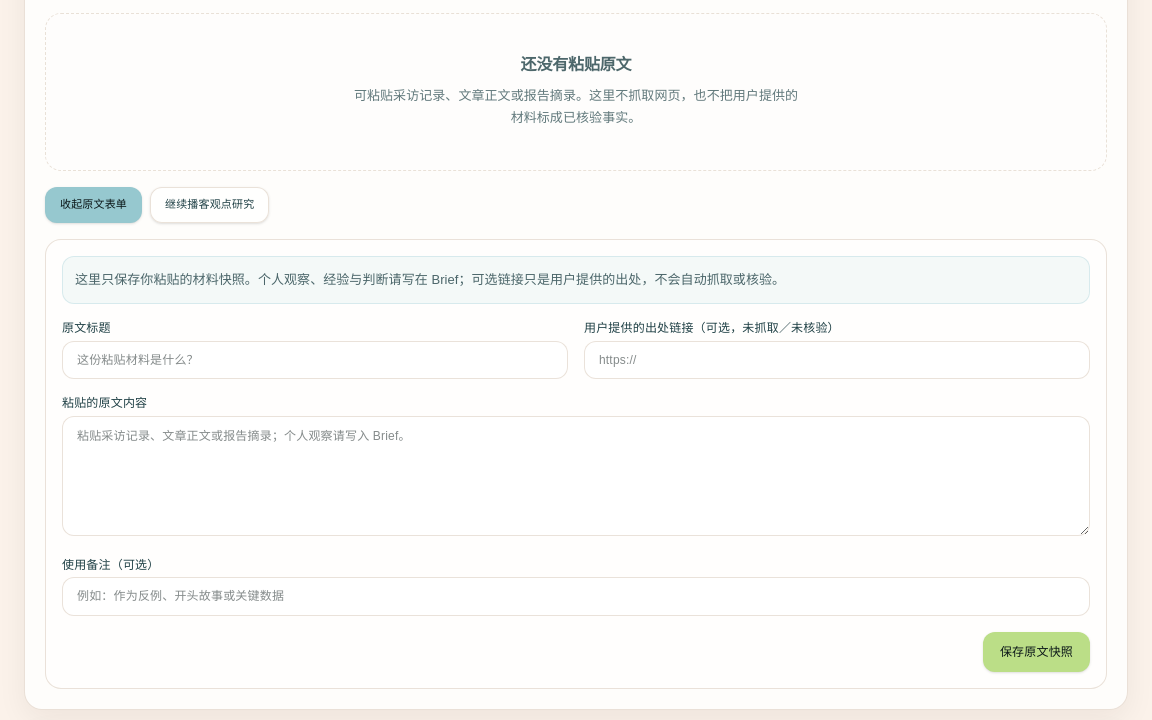
ProjectWorkspace › 来源表单草稿接入页面 blocker，并阻止用旧主稿准备输出
(page scrolled)
Type "待保存访谈" into the field labelled "原文标题" at (315, 360), box [62, 341, 568, 380]
(page scrolled)
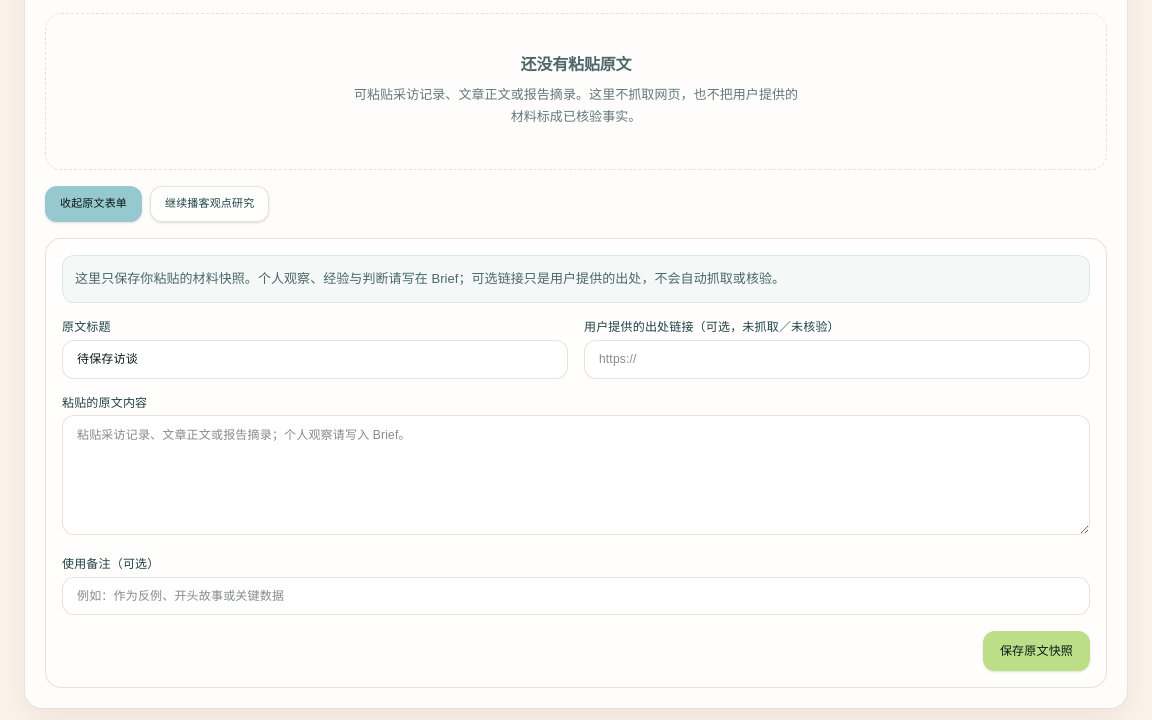
Type "不能丢失的原文" into the text box labelled "粘贴的原文内容" at (576, 475), box [62, 415, 1090, 535]
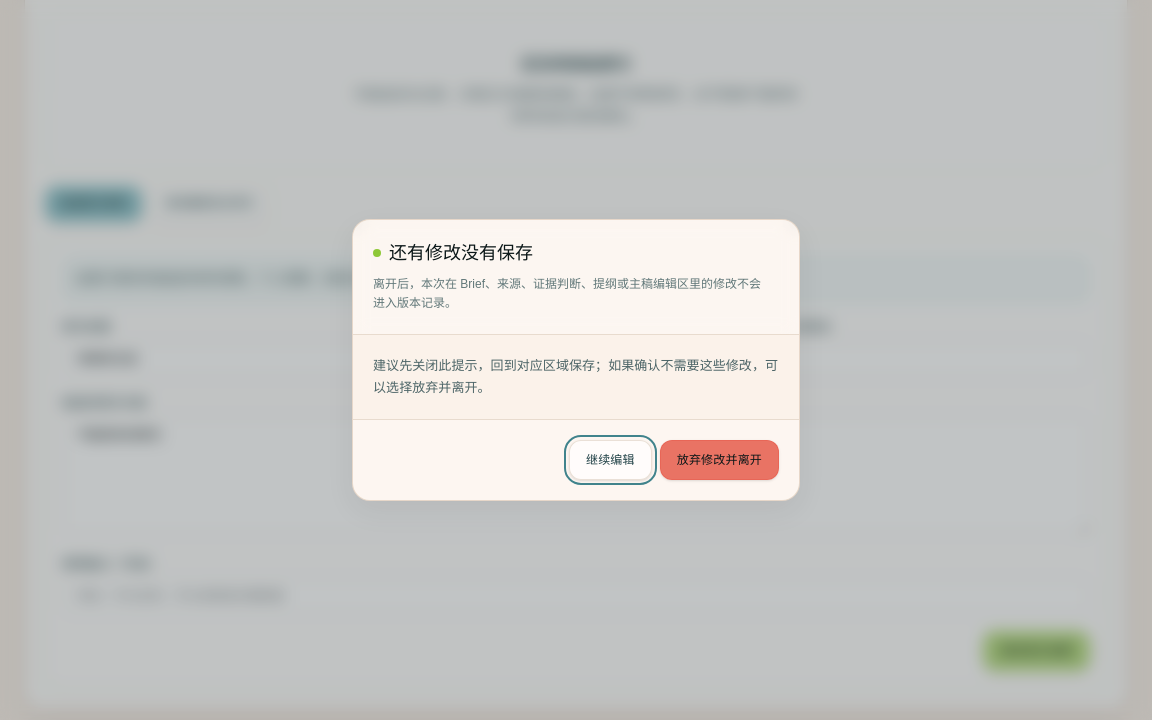
Check: the dialog "还有修改没有保存" is shown, box [352, 219, 800, 501]
